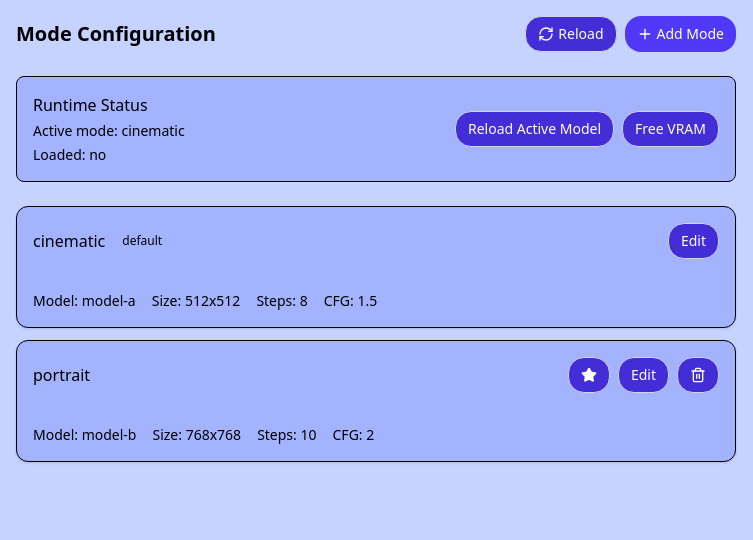
ModeEditor runtime controls › surfaces free VRAM failures inline
Click the button "Free VRAM": (670, 129) [622,111,719,147]
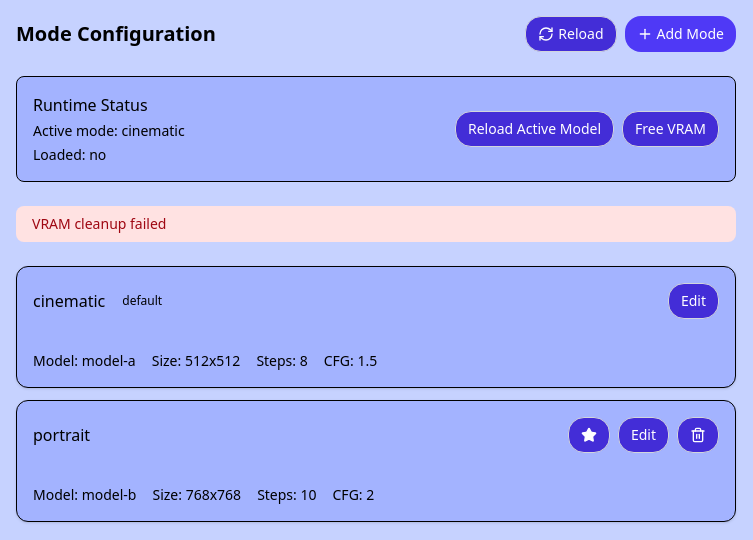
expect the text "VRAM cleanup failed" is shown: met, box [16,206,736,242]
